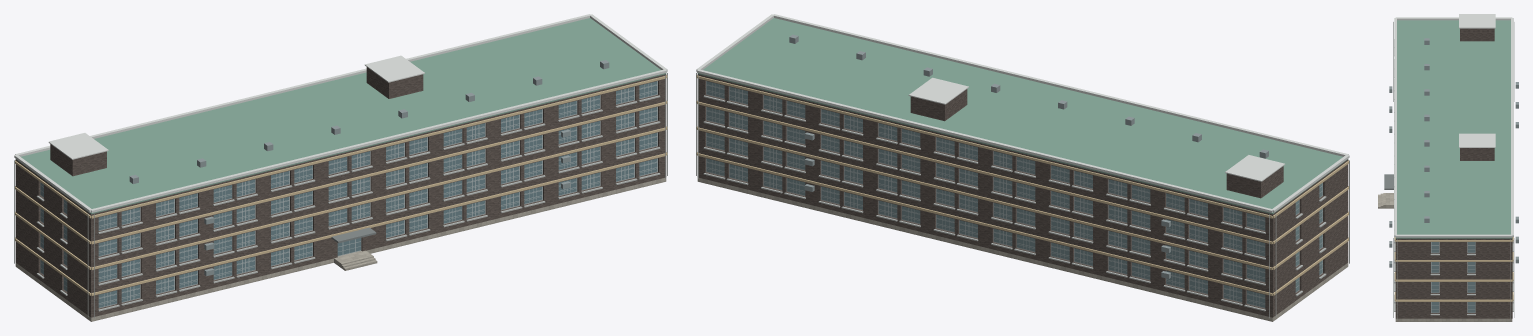
3 renders of one model, left to right at view 1: azimuth 30°, elevation 25°; view 2: azimuth 150°, elevation 25°; view 3: azimuth 270°, elevation 25°, orthographic. The views are drawn at different scales.
Parts seen in each view (by area): view 1: rear__brick, rear__roof, rear__glass, rear__frame, rear__band, rear__cap, rear__sill, rear__stone, rear__metalroof, rear__steel; view 2: rear__brick, rear__roof, rear__sideglass, rear__frame, rear__band, rear__cap, rear__sill, rear__stone, rear__metalroof, rear__steel; view 3: rear__roof, rear__brick, rear__cap, rear__band, rear__sideglass, rear__metalroof, rear__sill, rear__steel, rear__stone, rear__frame, rear__entrance, rear__threshold-front (+1 smaller).
Boxes of the visible parts, left/top/right/bottom form: rear__brick: left=15, top=67, right=666, bottom=317; rear__roof: left=16, top=18, right=666, bottom=214; rear__glass: left=98, top=81, right=657, bottom=307; rear__frame: left=40, top=81, right=657, bottom=308; rear__band: left=15, top=75, right=667, bottom=295; rear__cap: left=14, top=14, right=667, bottom=212; rear__sill: left=36, top=95, right=660, bottom=311; rear__stone: left=15, top=177, right=666, bottom=321; rear__metalroof: left=129, top=60, right=609, bottom=276; rear__steel: left=14, top=72, right=667, bottom=318; rear__brick: left=697, top=74, right=1348, bottom=317; rear__roof: left=697, top=18, right=1347, bottom=214; rear__sideglass: left=706, top=81, right=1322, bottom=307; rear__frame: left=706, top=81, right=1322, bottom=308; rear__band: left=696, top=75, right=1348, bottom=295; rear__cap: left=696, top=14, right=1349, bottom=212; rear__sill: left=703, top=95, right=1326, bottom=311; rear__stone: left=697, top=177, right=1348, bottom=321; rear__metalroof: left=789, top=34, right=1268, bottom=278; rear__steel: left=696, top=72, right=1349, bottom=318; rear__roof: left=1395, top=20, right=1512, bottom=238; rear__brick: left=1395, top=28, right=1512, bottom=318; rear__cap: left=1394, top=14, right=1513, bottom=237; rear__band: left=1394, top=237, right=1513, bottom=301; rear__sideglass: left=1431, top=242, right=1475, bottom=312; rear__metalroof: left=1389, top=38, right=1518, bottom=267; rear__sill: left=1394, top=39, right=1513, bottom=315; rear__steel: left=1393, top=21, right=1514, bottom=319; rear__stone: left=1395, top=318, right=1512, bottom=321; rear__frame: left=1431, top=242, right=1475, bottom=312; rear__entrance: left=1384, top=174, right=1394, bottom=189; rear__threshold-front: left=1386, top=193, right=1393, bottom=208.
Bounding box in the file's own units: 77.68 × 16.34 × 21.08.
Materials: 13 (2 with a texture image).
